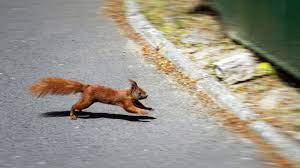squirrel: (31, 77, 156, 122)
